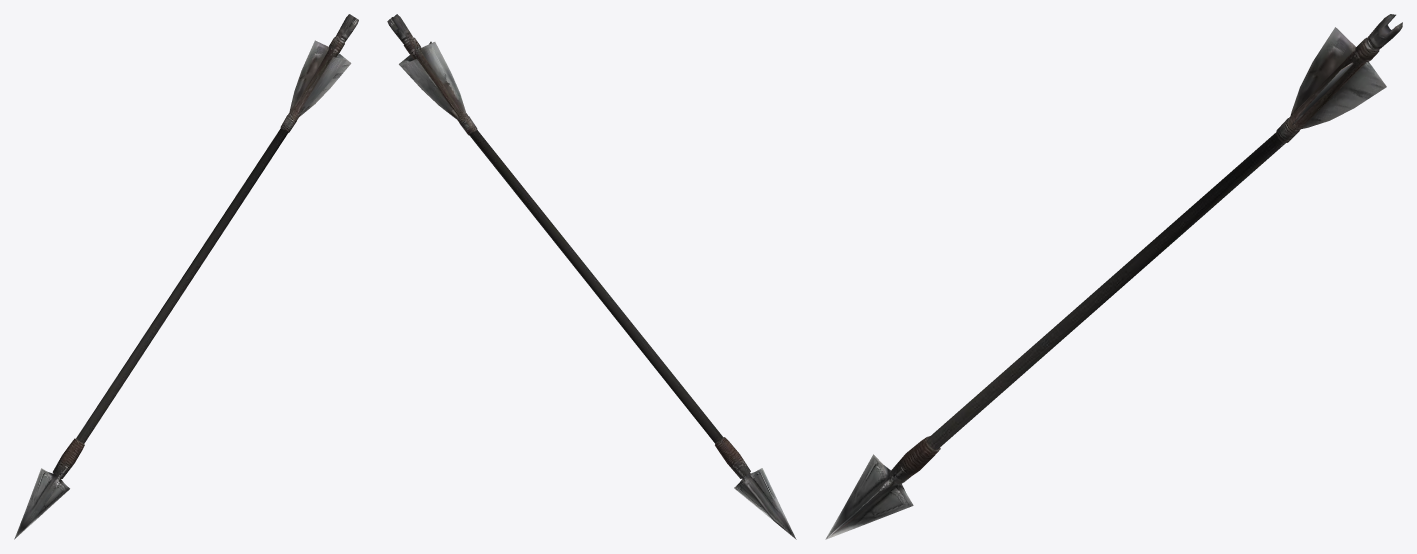
The model's file is boltdark.glb.
The picture shows the model from 3 angles, left to right: view 1: azimuth 30°, elevation 25°; view 2: azimuth 150°, elevation 25°; view 3: azimuth 330°, elevation 25°; orthographic projection. The views are drawn at different scales.
Visible parts, largest first — view 1: tripo_node_1fb8057b-c8bd-4983-bf9d-49c1e782192b; view 2: tripo_node_1fb8057b-c8bd-4983-bf9d-49c1e782192b; view 3: tripo_node_1fb8057b-c8bd-4983-bf9d-49c1e782192b.
Part boxes in pixels (box(x1,y1,x2,y2)): tripo_node_1fb8057b-c8bd-4983-bf9d-49c1e782192b: box(14, 14, 358, 539); tripo_node_1fb8057b-c8bd-4983-bf9d-49c1e782192b: box(387, 14, 796, 539); tripo_node_1fb8057b-c8bd-4983-bf9d-49c1e782192b: box(825, 14, 1402, 539).
Size of the model in its own units: 0.9018 by 0.9995 by 0.1577.
1 material, 1 textured.
